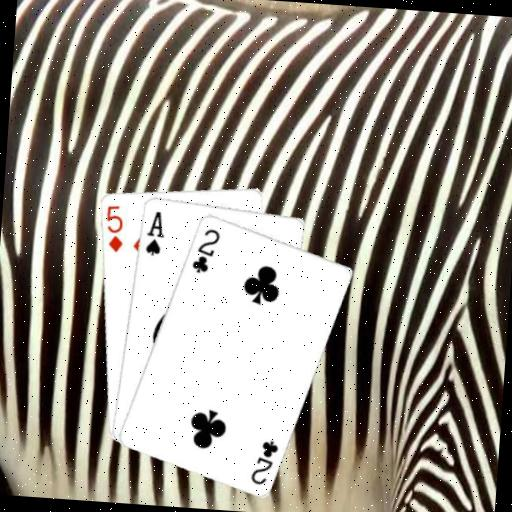2C: (188, 224, 222, 276), (247, 435, 280, 487)
5D: (100, 201, 127, 254)
AS: (142, 208, 168, 258)
